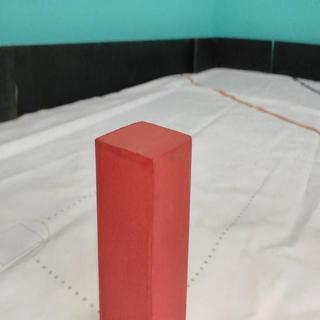redbox: (93, 119, 192, 320)
